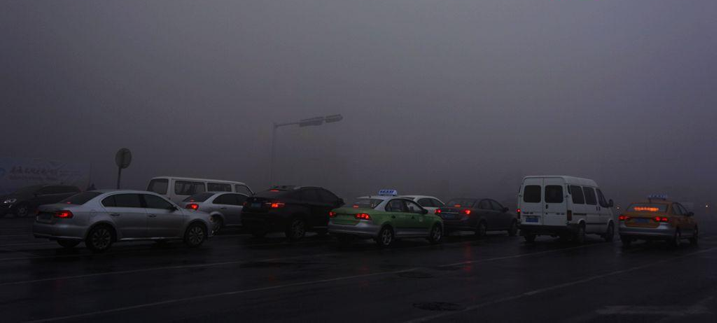bus: (516, 175, 615, 241), (144, 176, 258, 225)
car: (32, 189, 214, 252), (327, 189, 445, 247), (240, 184, 354, 244), (617, 193, 698, 248), (175, 191, 266, 236), (433, 197, 520, 239), (1, 184, 82, 220), (383, 194, 454, 232)
